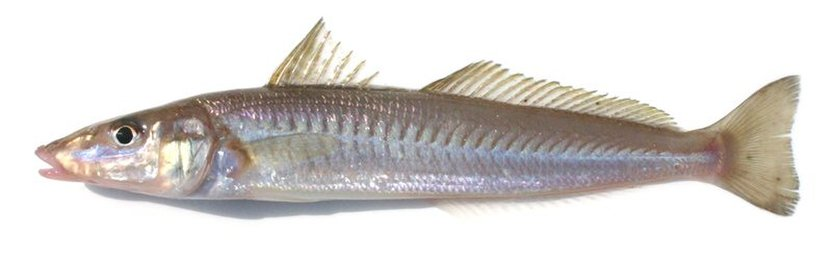kiss: (34, 15, 807, 231)
